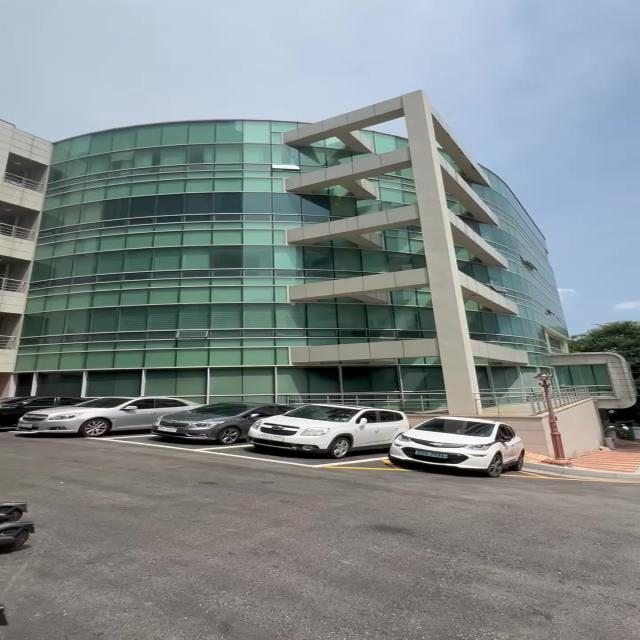building: (0, 95, 588, 407)
